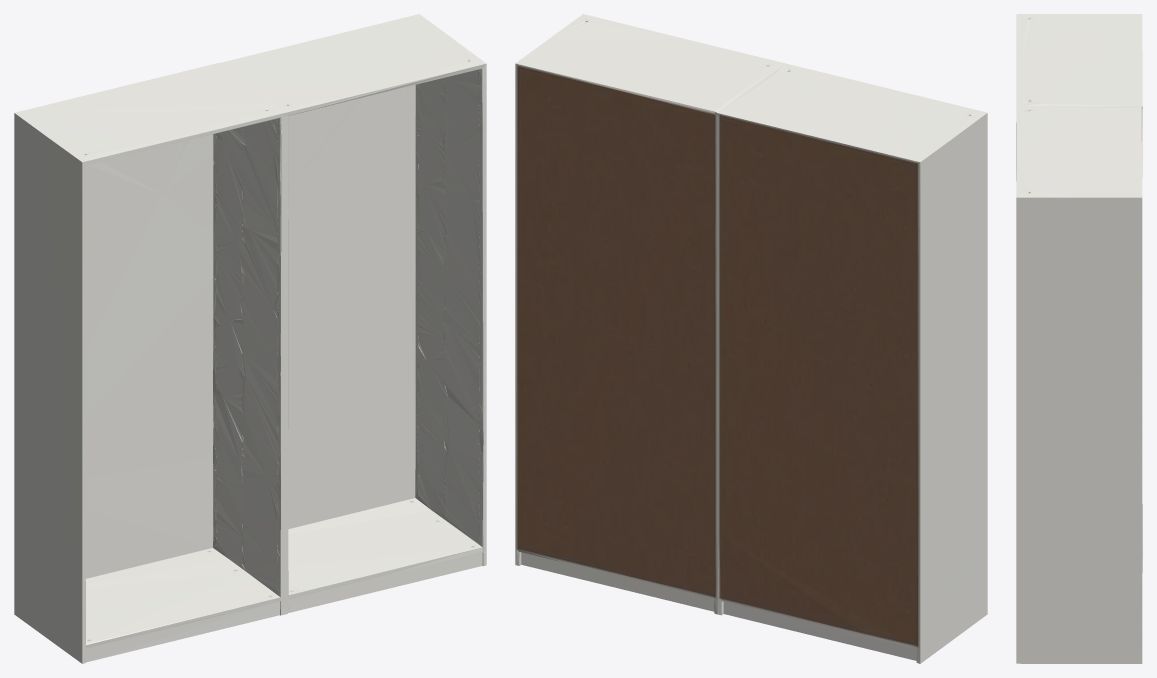
The picture shows the model from 3 angles, left to right: view 1: azimuth 30°, elevation 25°; view 2: azimuth 150°, elevation 25°; view 3: azimuth 270°, elevation 25°; orthographic projection. The views are drawn at different scales.
Parts seen in each view (by area): view 1: ProcessedGeometry; view 2: ProcessedGeometry; view 3: ProcessedGeometry.
Part boxes in pixels (bbox=[...]): ProcessedGeometry: bbox=[14, 14, 486, 663]; ProcessedGeometry: bbox=[515, 14, 987, 663]; ProcessedGeometry: bbox=[1016, 14, 1142, 663].
Bounding box in the file's own units: 2 × 2.36 × 0.5801.
Materials: 1 (1 with a texture image).
